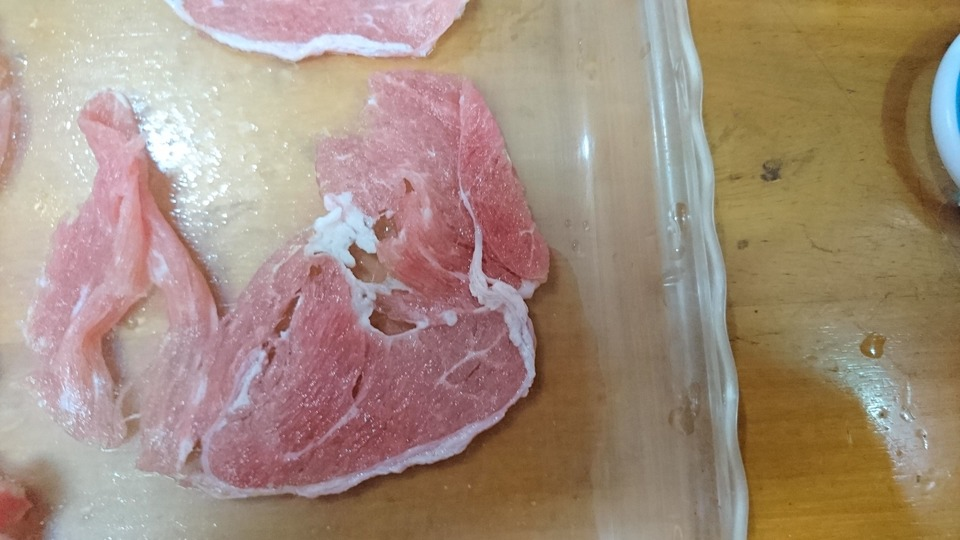restructured meat: (42, 93, 547, 487), (164, 1, 501, 72)
